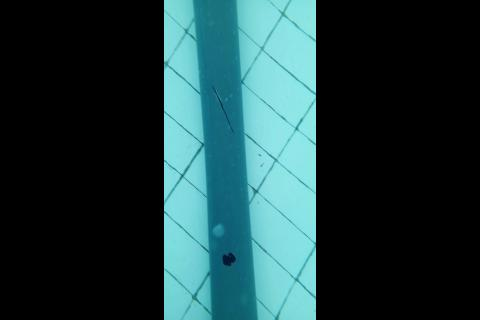kebocoran: (220, 250, 237, 268)
keretakan: (211, 83, 236, 134)
